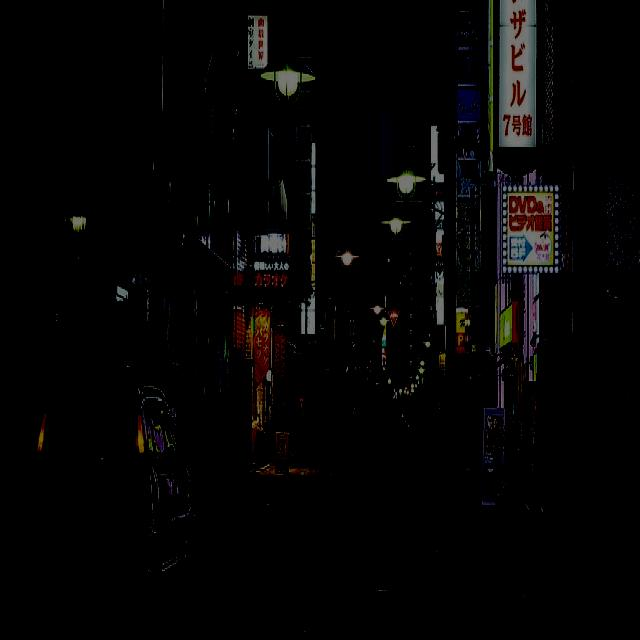Car: (29, 390, 199, 597)
